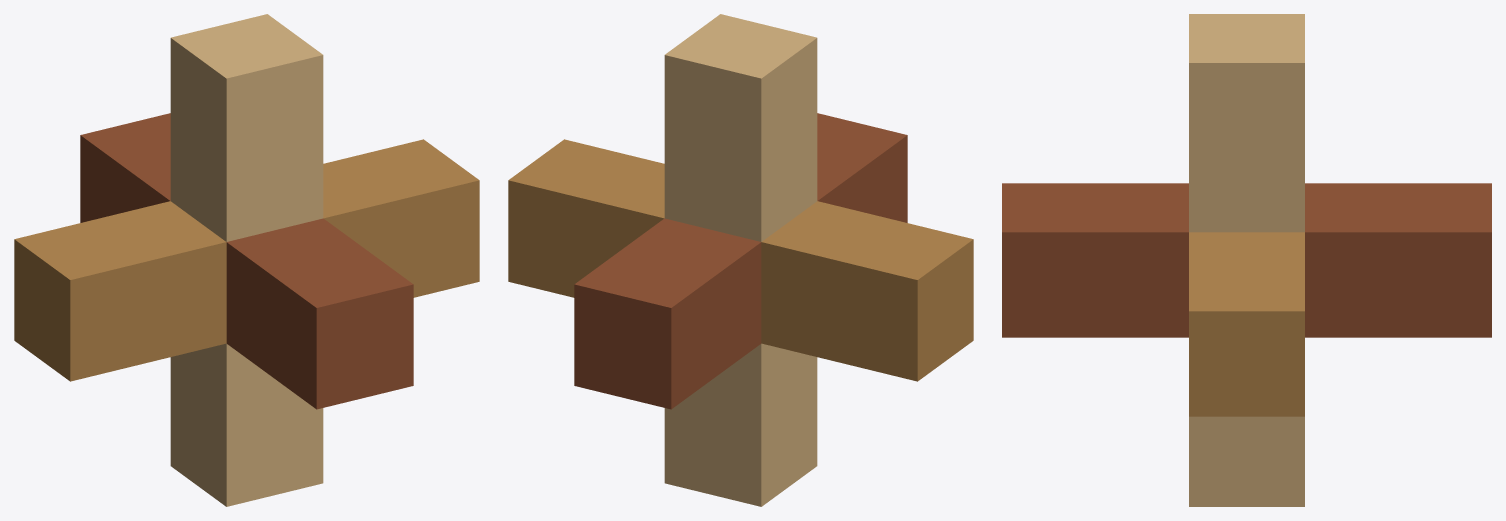
The picture shows the model from 3 angles, left to right: view 1: azimuth 30°, elevation 25°; view 2: azimuth 150°, elevation 25°; view 3: azimuth 270°, elevation 25°; orthographic projection. The views are drawn at different scales.
Visible parts, largest first — view 1: ZBar_ContinuousSideQuarterWeb, XBar_ContinuousLowerQuarterWeb, YBar_ContinuousRearQuarterWeb; view 2: ZBar_ContinuousSideQuarterWeb, XBar_ContinuousLowerQuarterWeb, YBar_ContinuousRearQuarterWeb; view 3: YBar_ContinuousRearQuarterWeb, ZBar_ContinuousSideQuarterWeb, XBar_ContinuousLowerQuarterWeb.
Boxes of the visible parts, x1,y1,x2,y2 form: ZBar_ContinuousSideQuarterWeb: (170,14,323,506); XBar_ContinuousLowerQuarterWeb: (14,139,479,381); YBar_ContinuousRearQuarterWeb: (80,113,413,409); ZBar_ContinuousSideQuarterWeb: (664,14,817,506); XBar_ContinuousLowerQuarterWeb: (508,139,973,381); YBar_ContinuousRearQuarterWeb: (574,113,907,409); YBar_ContinuousRearQuarterWeb: (1002,183,1491,337); ZBar_ContinuousSideQuarterWeb: (1189,14,1304,506); XBar_ContinuousLowerQuarterWeb: (1189,232,1304,416).
Size of the model in its own units: 0.38 by 0.38 by 0.38.
